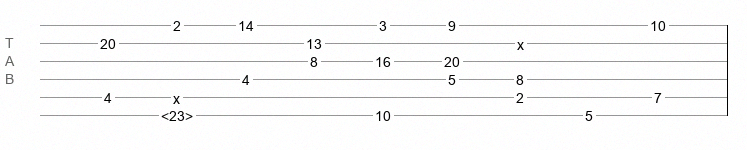10: (375, 108, 391, 118), (650, 18, 666, 28)
13: (306, 36, 322, 46)
14: (238, 18, 254, 28)
16: (375, 54, 391, 64)
2: (173, 18, 181, 28), (516, 90, 524, 100)
20: (100, 36, 116, 46), (444, 54, 460, 64)
3: (379, 18, 387, 28)
4: (104, 90, 112, 100), (242, 72, 250, 82)
5: (448, 72, 456, 82), (585, 108, 593, 118)
7: (654, 90, 662, 100)
8: (310, 54, 318, 64), (516, 72, 524, 82)
9: (448, 18, 456, 28)
harmonic: (161, 108, 193, 118)
x: (173, 91, 180, 99), (517, 37, 524, 45)
